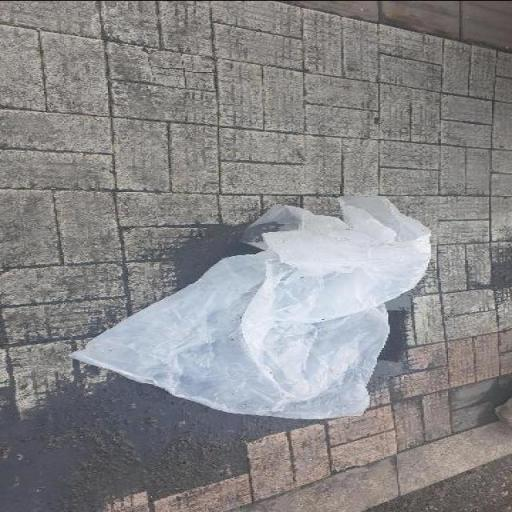plastic-bag: (65, 192, 437, 422)
